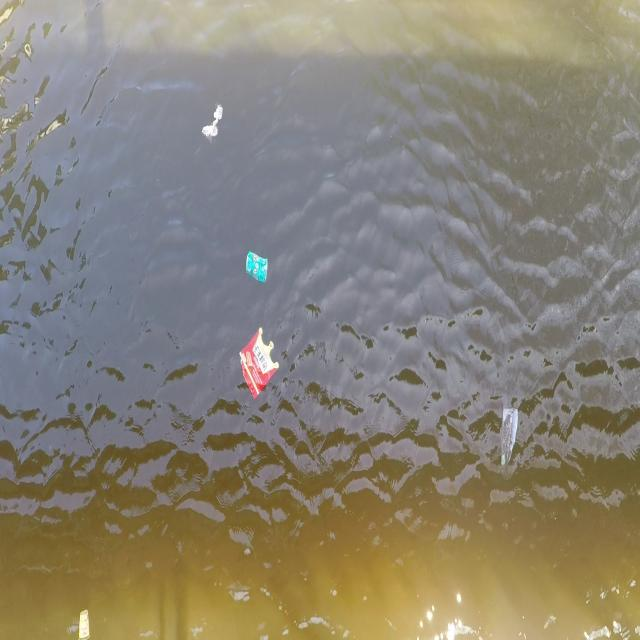Autre plastique: (492, 397, 524, 489)
Sac plastique: (198, 96, 226, 148)
